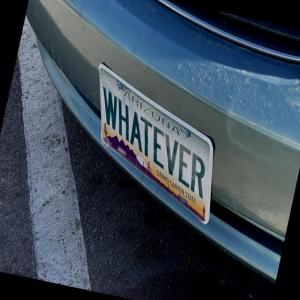Plate: (99, 63, 216, 227)
